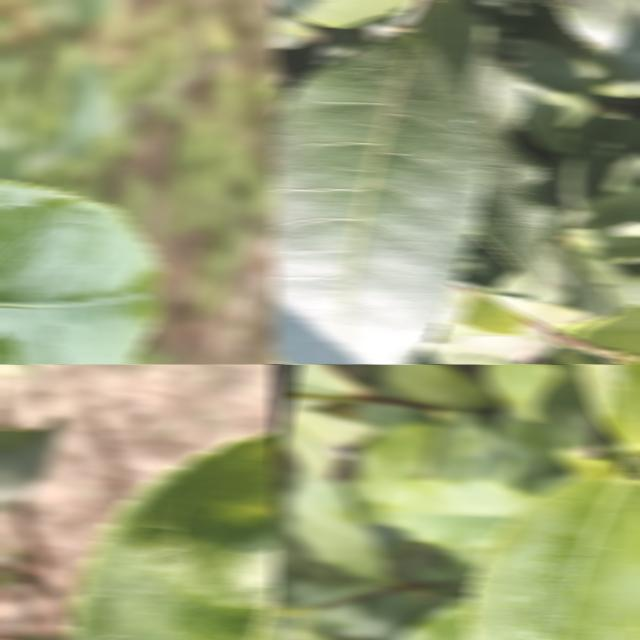Leaf: (272, 37, 488, 364), (68, 431, 278, 640), (418, 0, 551, 281), (0, 179, 163, 364), (464, 476, 640, 640), (377, 478, 538, 561), (494, 364, 601, 483), (285, 473, 392, 581), (542, 0, 640, 84), (518, 80, 600, 156), (0, 419, 66, 511), (579, 364, 640, 452), (505, 39, 593, 92), (482, 364, 562, 422), (572, 253, 640, 319), (564, 184, 640, 238), (559, 304, 640, 353), (395, 601, 473, 640), (559, 228, 640, 263), (272, 8, 320, 49), (70, 0, 111, 27)
